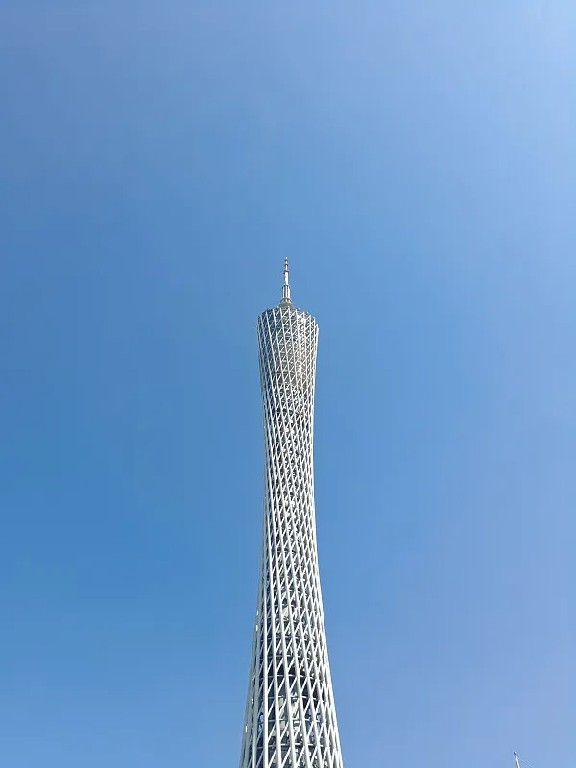Canton: (238, 256, 346, 768)
